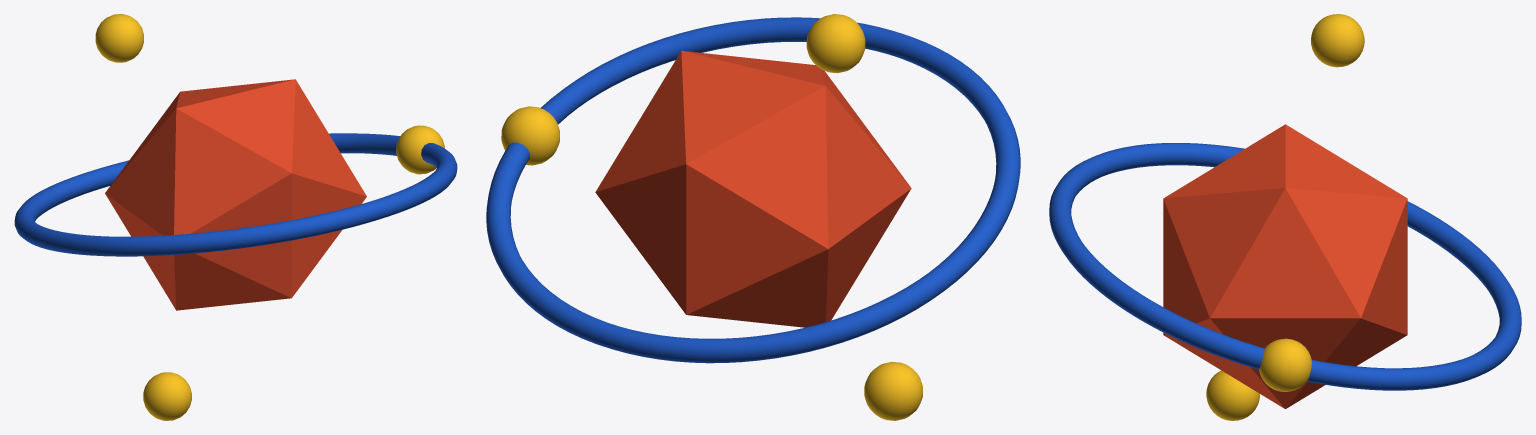
Rendered from placeholder.glb.
3 renders of one model, left to right at view 1: azimuth 30°, elevation 25°; view 2: azimuth 150°, elevation 25°; view 3: azimuth 270°, elevation 25°, orthographic. The views are drawn at different scales.
Size of the model in its own units: 0.5625 by 0.4949 by 0.5264.
